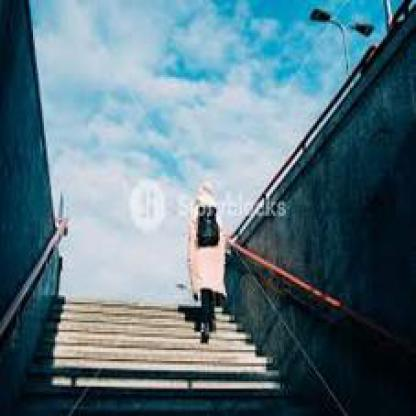stair_up: (40, 294, 270, 402)
